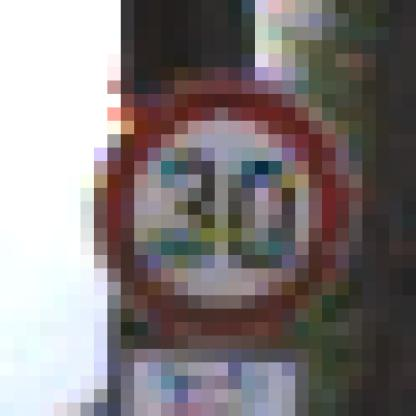Speed Limit 30: (92, 92, 340, 339)
